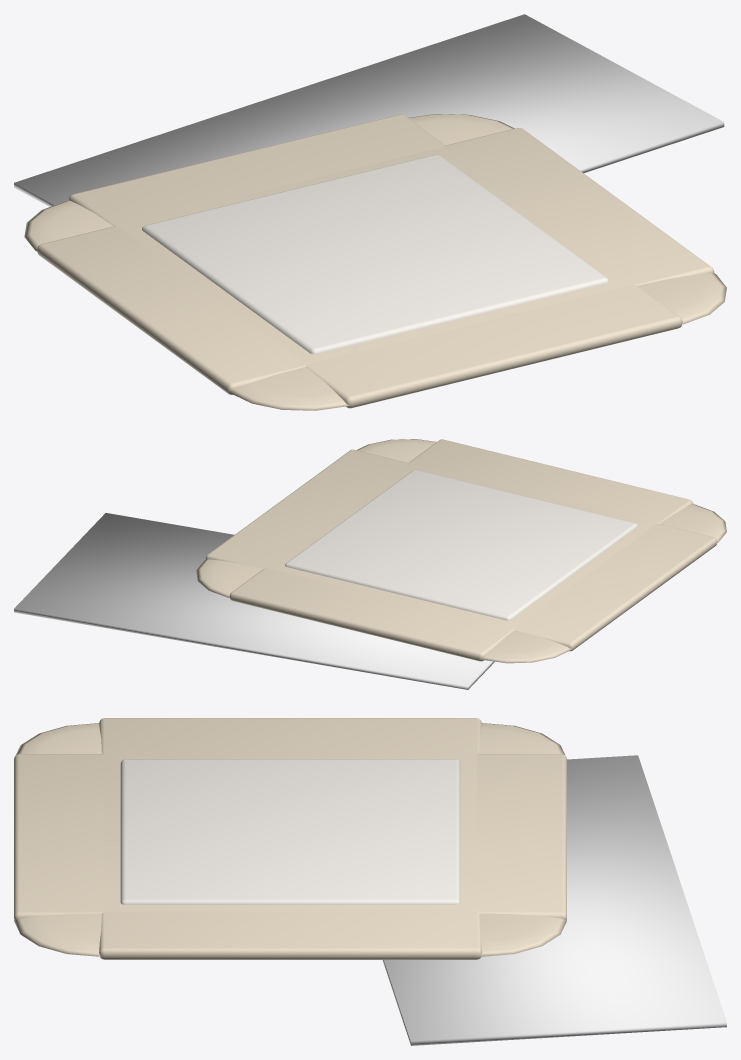
The model's file is SM_Nicotine.glb.
The picture shows the model from 3 angles, top to bottom: view 1: azimuth 30°, elevation 25°; view 2: azimuth 150°, elevation 25°; view 3: azimuth 270°, elevation 25°; orthographic projection. The views are drawn at different scales.
Parts seen in each view (by area): view 1: SM_Nicotine; view 2: SM_Nicotine; view 3: SM_Nicotine.
Boxes of the visible parts, x1=… form: SM_Nicotine: x1=14, y1=14, x2=726, y2=410; SM_Nicotine: x1=14, y1=439, x2=726, y2=689; SM_Nicotine: x1=14, y1=718, x2=726, y2=1045.
Bounding box in the file's own units: 0.0698 × 0.00205 × 0.067.
